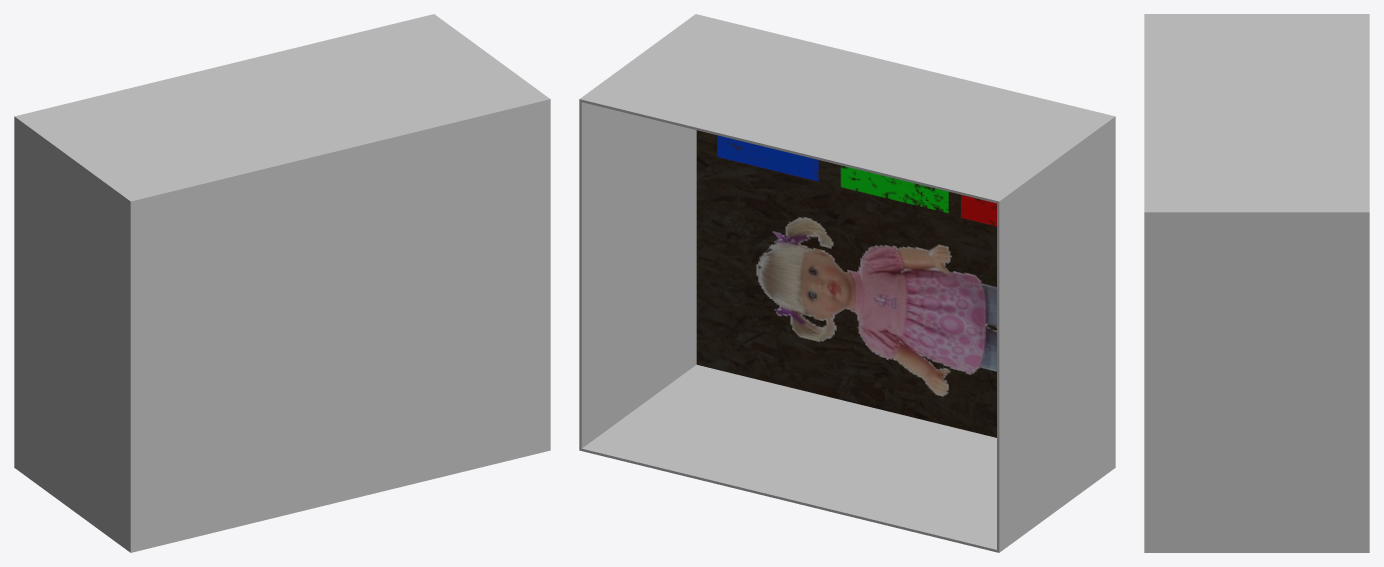
Rendered from victim_with_box_tsc.dae.
The picture shows the model from 3 angles, left to right: view 1: azimuth 30°, elevation 25°; view 2: azimuth 150°, elevation 25°; view 3: azimuth 270°, elevation 25°; orthographic projection. The views are drawn at different scales.
Visible parts, largest first — view 1: Cube; view 2: Cube; view 3: Cube.
Boxes of the visible parts, box(x1,y1,x2,y2) form: Cube: box(14, 14, 550, 552); Cube: box(579, 14, 1115, 552); Cube: box(1144, 14, 1369, 552).
Size of the model in its own units: 0.5 by 0.24 by 0.4.
